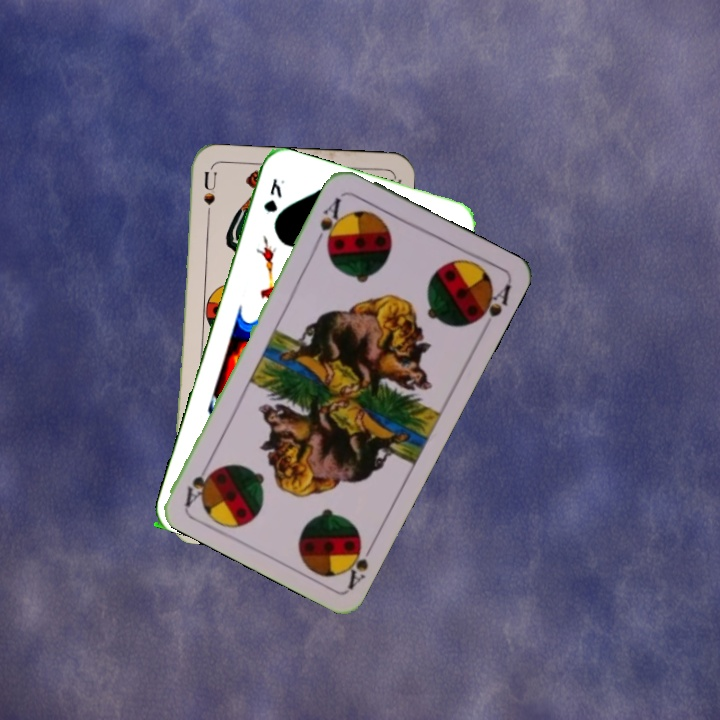GK: (259, 175, 288, 215)
SA: (337, 533, 378, 592), (311, 193, 345, 250)
SU: (199, 168, 219, 228)
